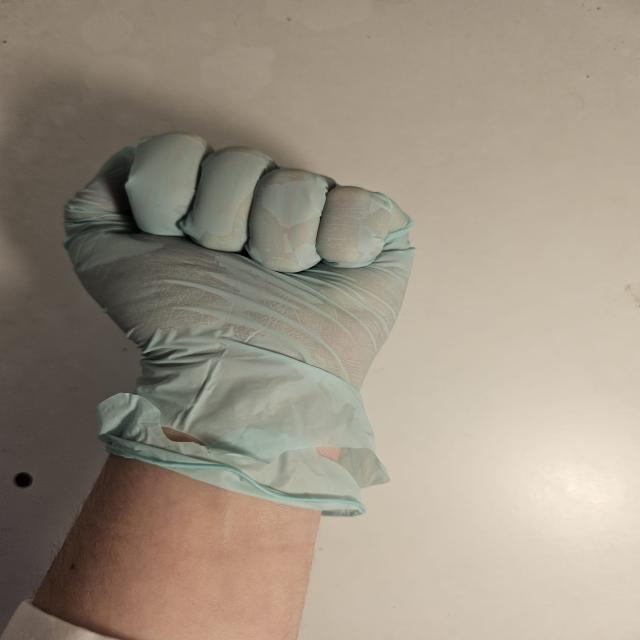gloves_damaged: (60, 132, 416, 518)
